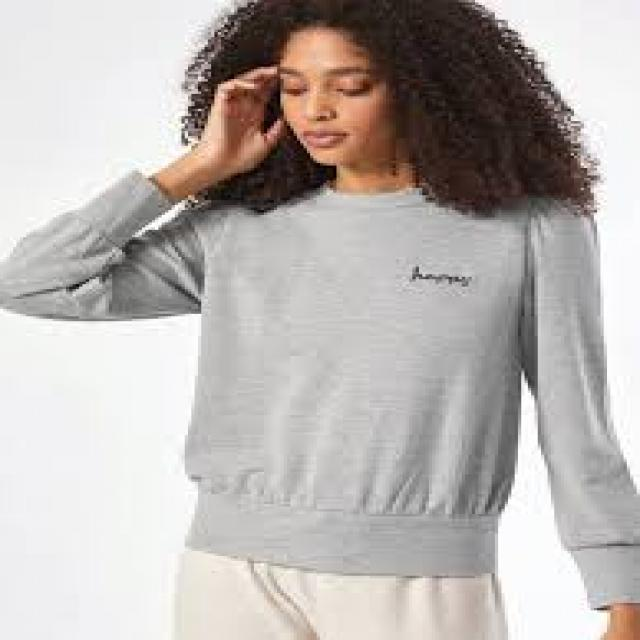plain: (36, 155, 640, 593)
